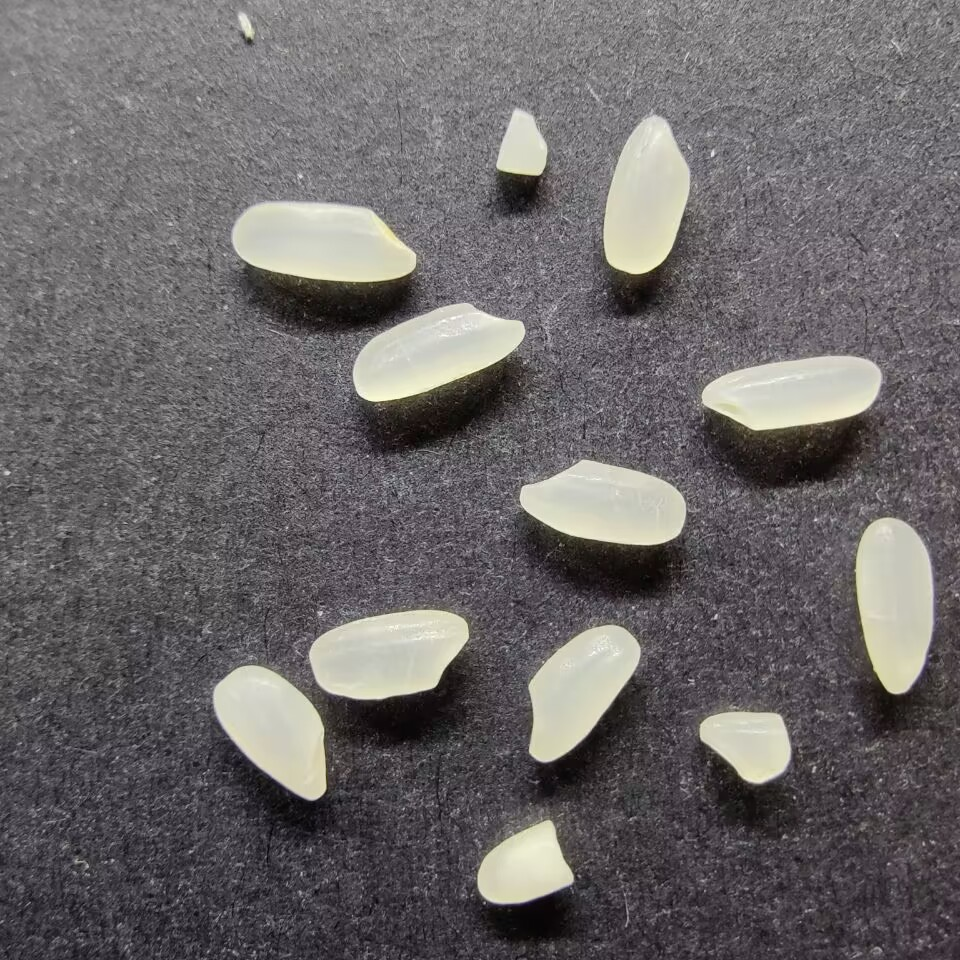broken: (473, 817, 575, 905), (697, 711, 795, 785), (492, 107, 549, 178)
rice: (351, 299, 525, 404), (525, 621, 642, 764), (210, 662, 328, 803), (230, 200, 419, 282), (516, 458, 688, 548), (601, 112, 692, 277), (307, 609, 469, 700), (854, 516, 936, 695), (699, 354, 881, 432)
